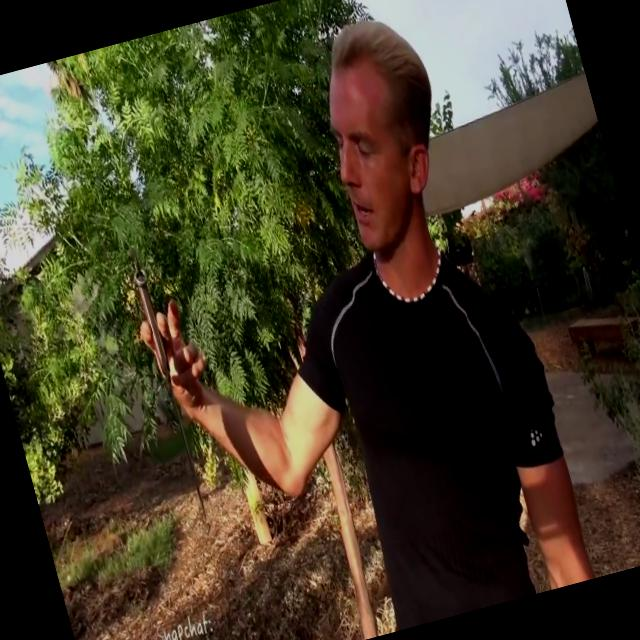knife: (118, 233, 222, 532)
